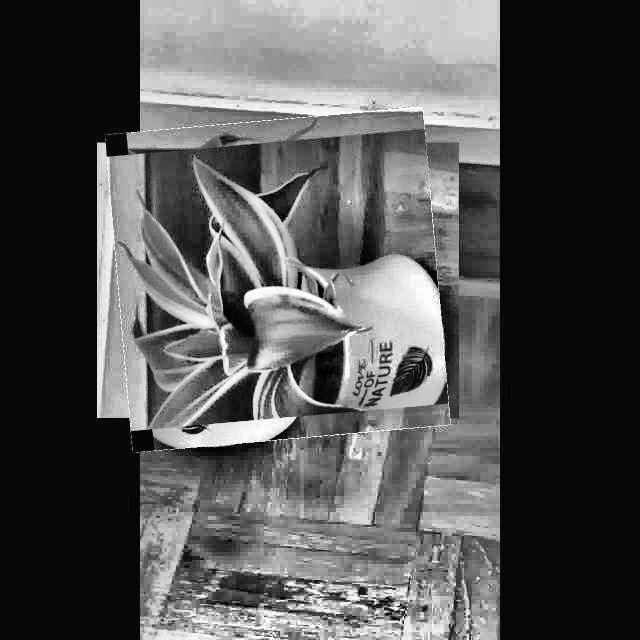plants: (112, 114, 444, 446)
